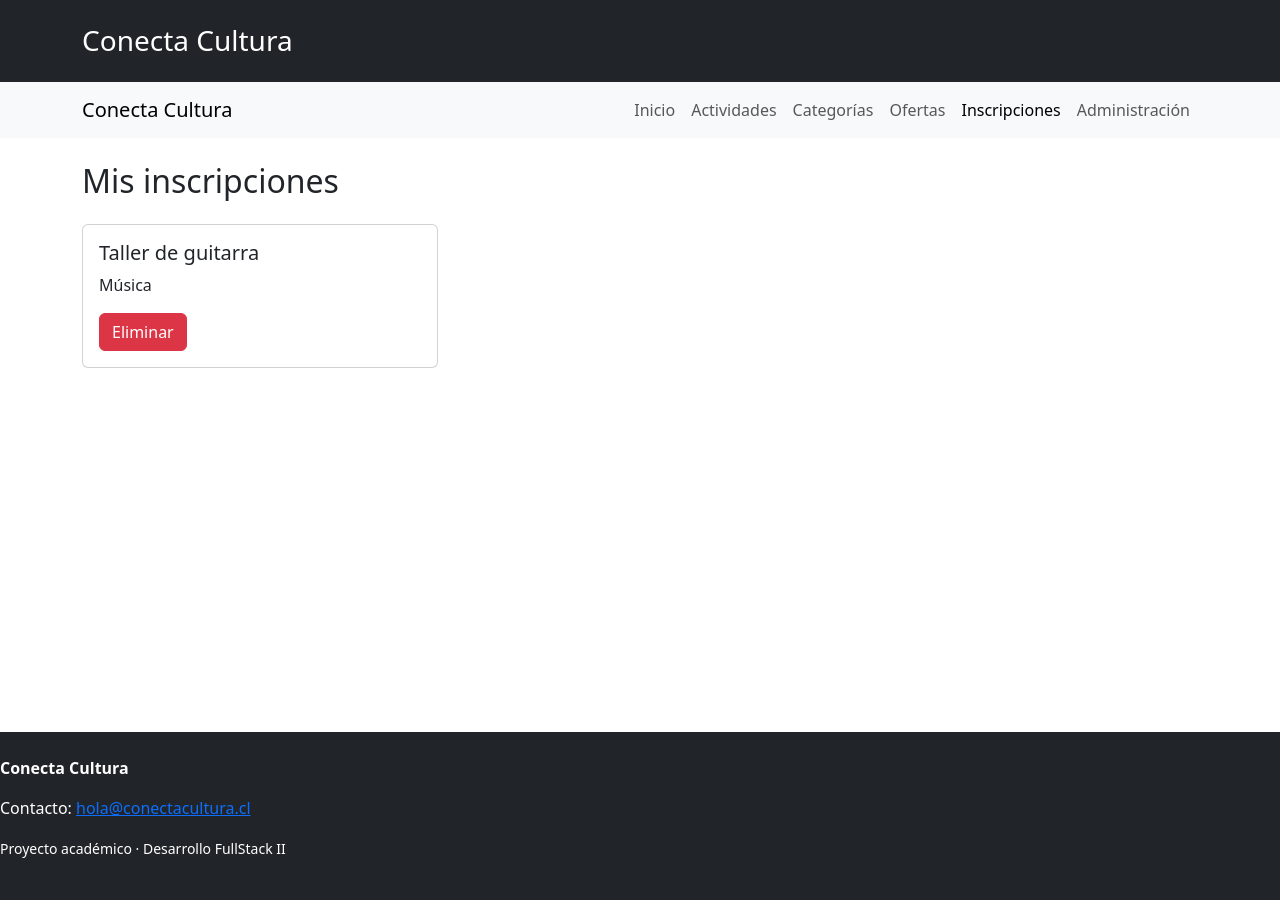
Test case: App › elimina una inscripción guardada y devuelve el cupo
This screenshot has width=1280, height=900.
Expected: the heading "Taller de guitarra" is shown, [99, 239, 259, 266]
What coordinates should you click on to do the following:
click the button "Eliminar"
I would click on:
 (143, 332)
Its box is [99, 313, 187, 351].
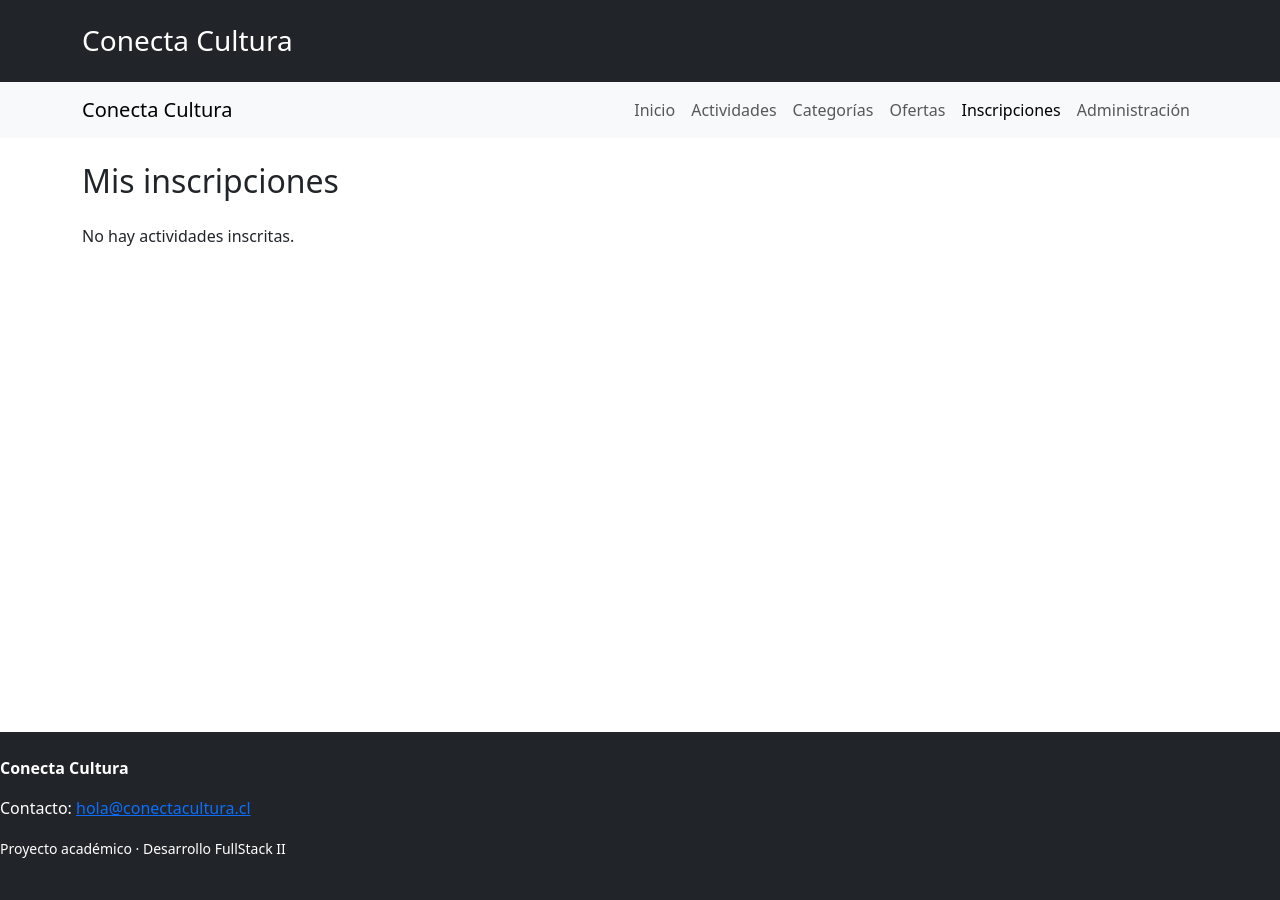
Now the text "No hay actividades inscritas." is shown, box [82, 225, 294, 247]
What coordinates should you click on to do the following:
click the link "Actividades"
I would click on:
 (734, 110)
Its box is [691, 99, 777, 121].
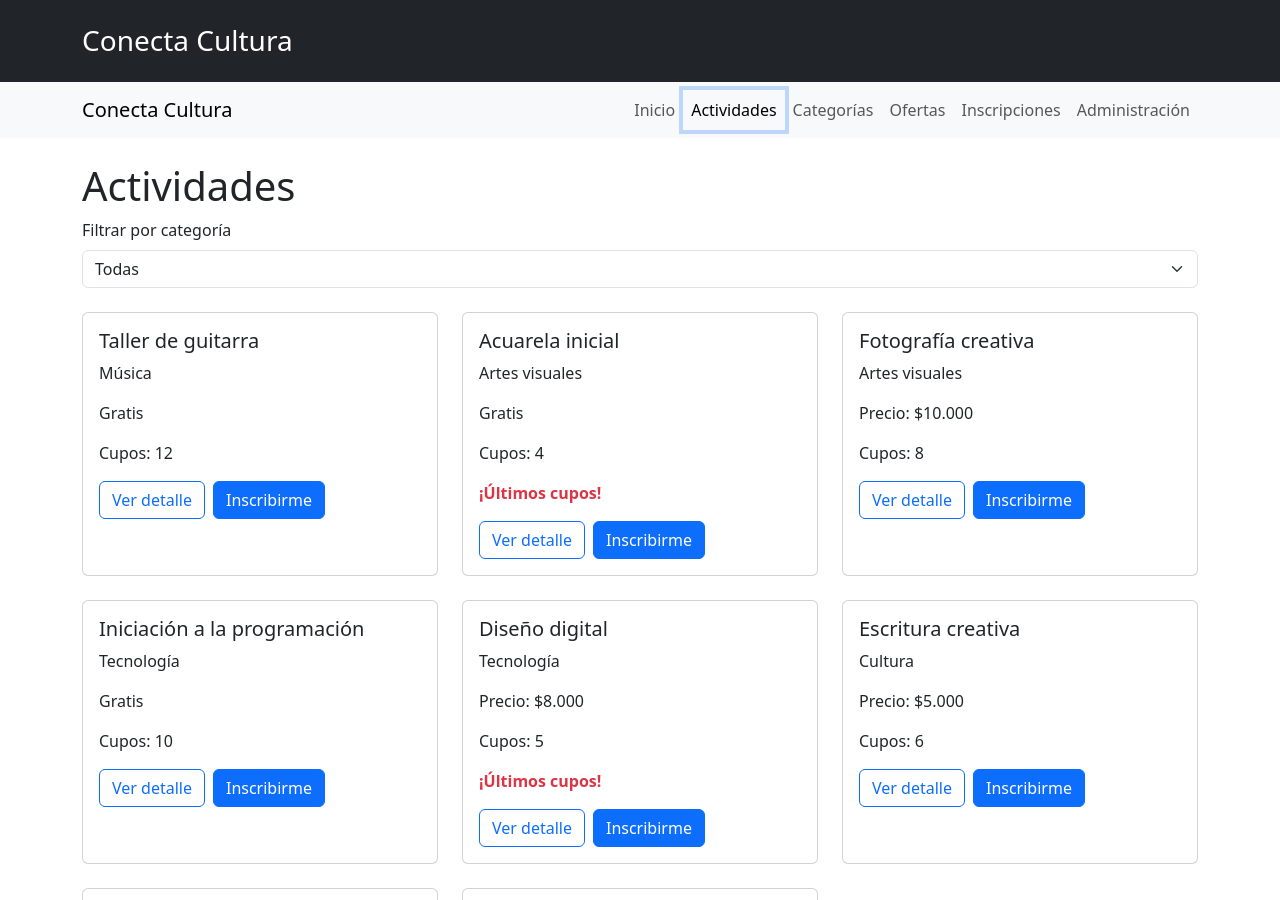
Now the text "Cupos: 12" is shown, box [99, 442, 173, 464]
